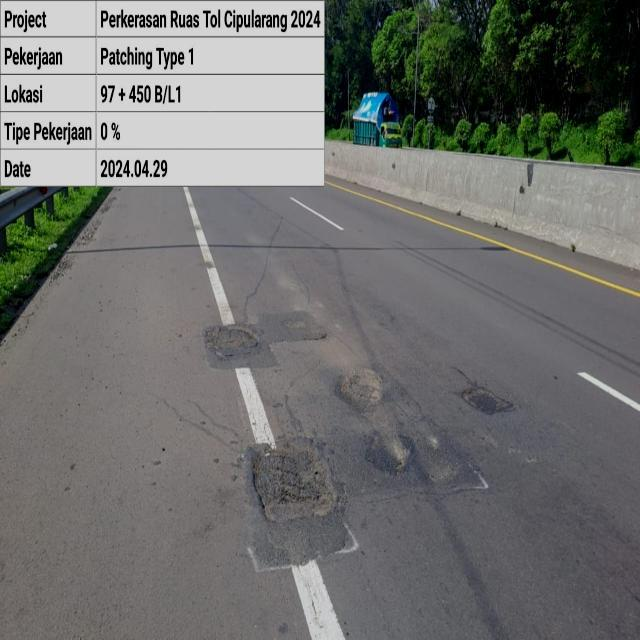Buraco: (248, 435, 342, 527), (362, 429, 419, 479), (332, 366, 387, 414), (202, 322, 264, 362), (457, 384, 518, 416), (279, 317, 309, 335), (298, 330, 330, 344)
